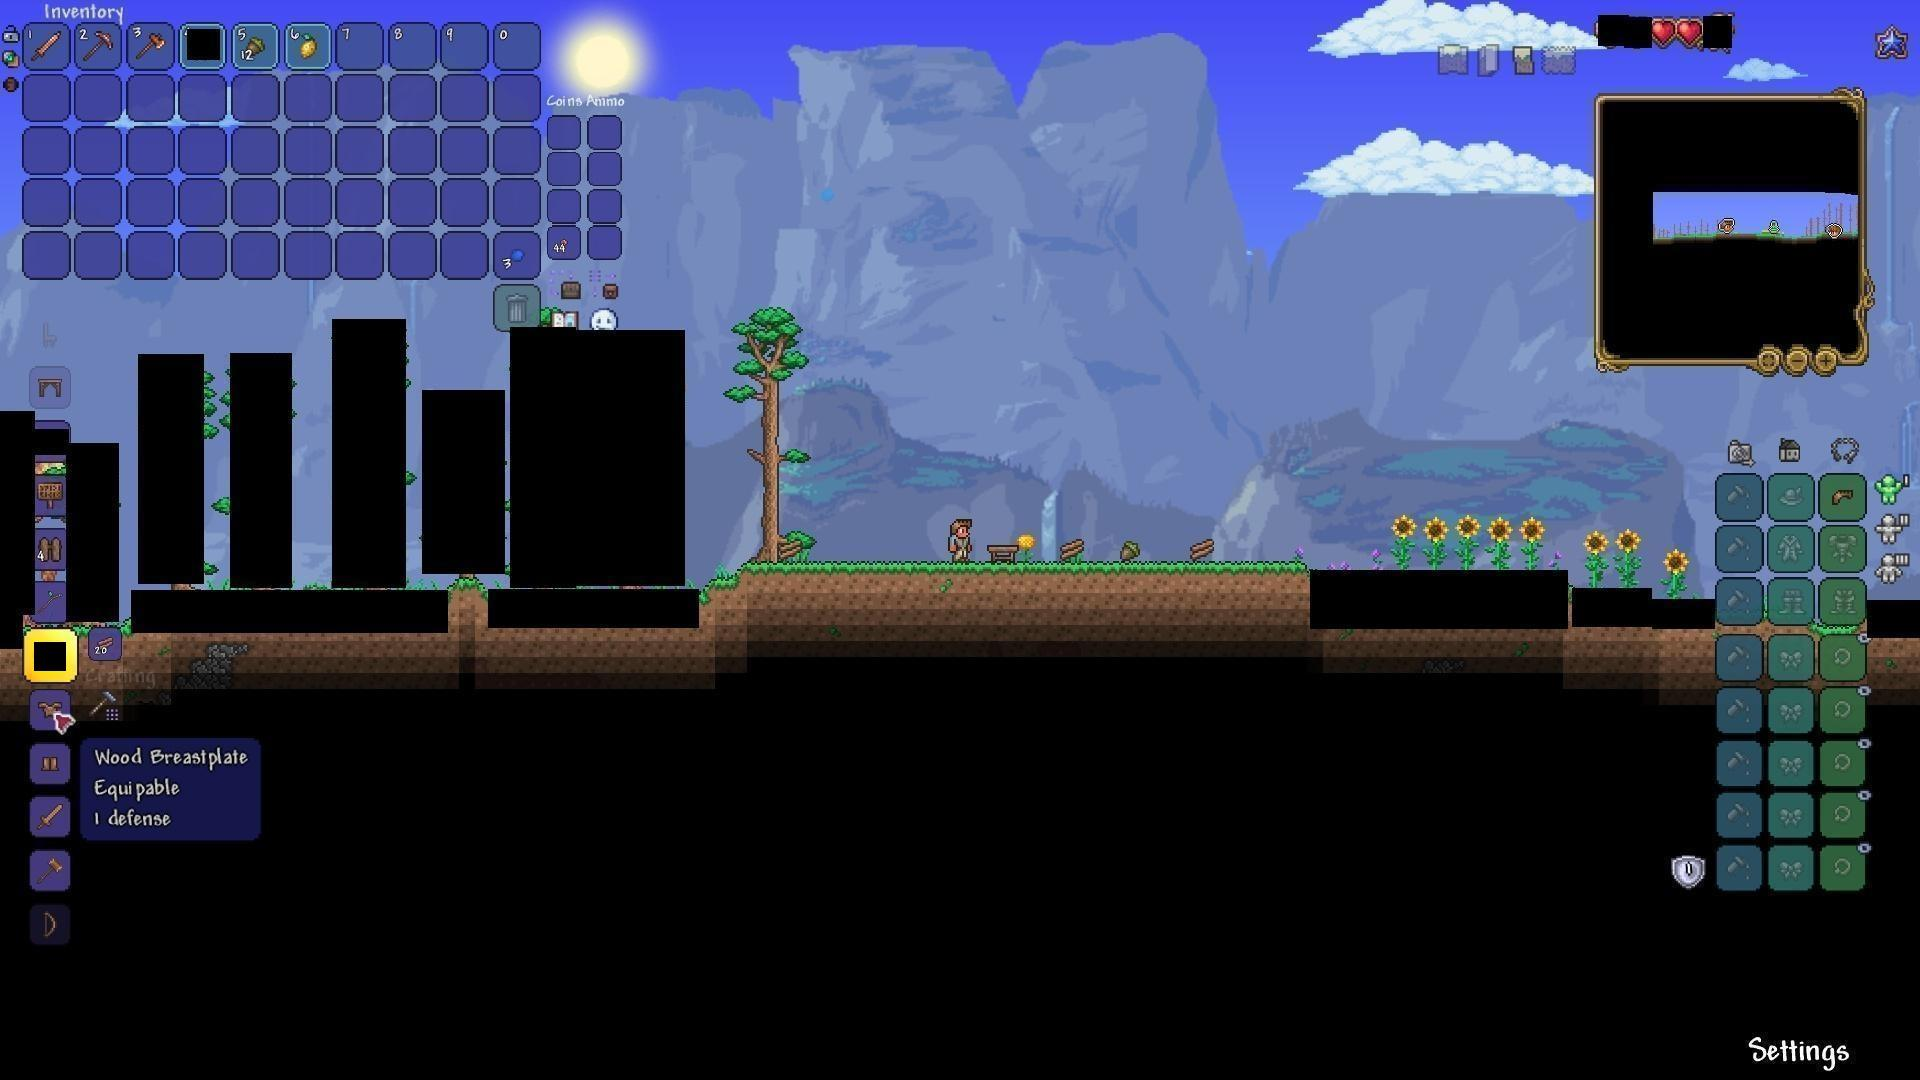breastplate: (37, 698, 67, 719)
dirt: (702, 560, 1307, 607), (448, 575, 487, 608)
heart: (1676, 17, 1704, 47), (1648, 17, 1676, 47)
helmet: (1828, 483, 1858, 509)
legs: (38, 750, 63, 779)
tree: (732, 298, 796, 535)
wood: (1054, 535, 1087, 566), (91, 629, 123, 659), (775, 539, 808, 568), (1187, 535, 1218, 564)
workbench: (982, 541, 1019, 564)
